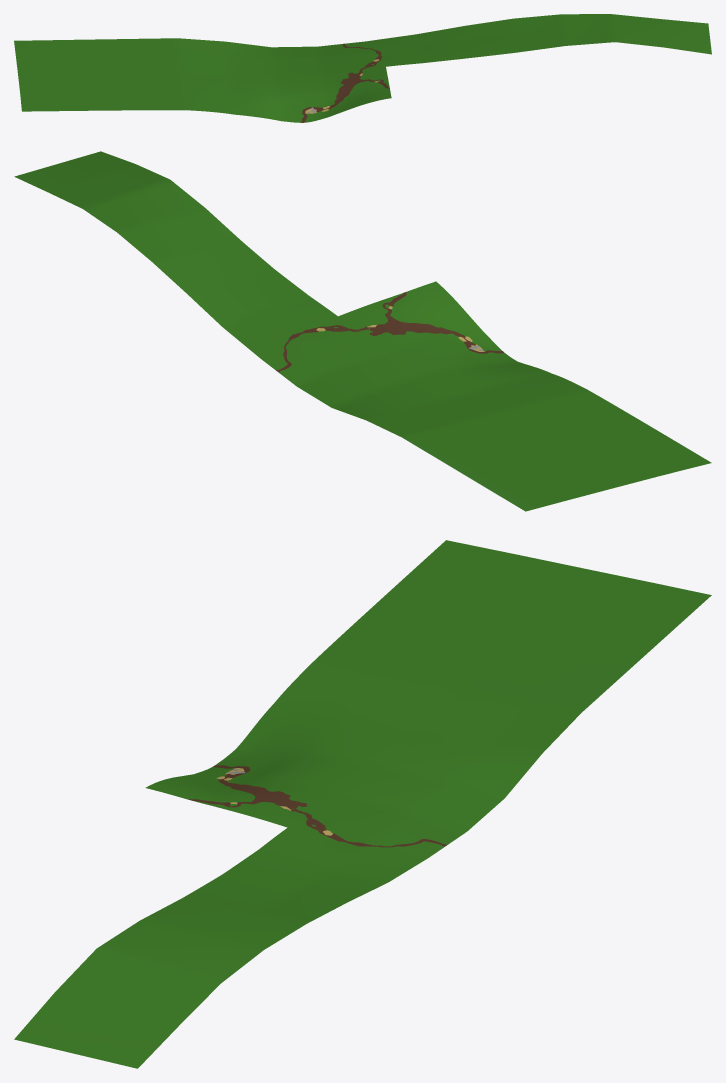
Rendered from Placeholder_module04_weird_settlement.fbx.
3 views of the same model, one above another, from view 1: azimuth 30°, elevation 25°; view 2: azimuth 150°, elevation 25°; view 3: azimuth 270°, elevation 25° (orthographic). The views are drawn at different scales.
Parts seen in each view (by area): view 1: Module4_weird_settlement01; view 2: Module4_weird_settlement01; view 3: Module4_weird_settlement01.
Part boxes in pixels (bbox=[...]): Module4_weird_settlement01: bbox=[14, 14, 711, 122]; Module4_weird_settlement01: bbox=[14, 151, 711, 511]; Module4_weird_settlement01: bbox=[14, 540, 711, 1068].
Bounding box in the file's own units: 62.74 × 3.6 × 34.62.
